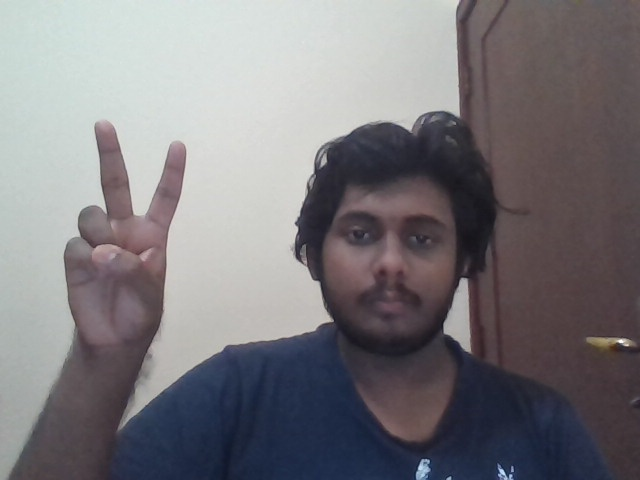peace: (62, 120, 189, 351)
